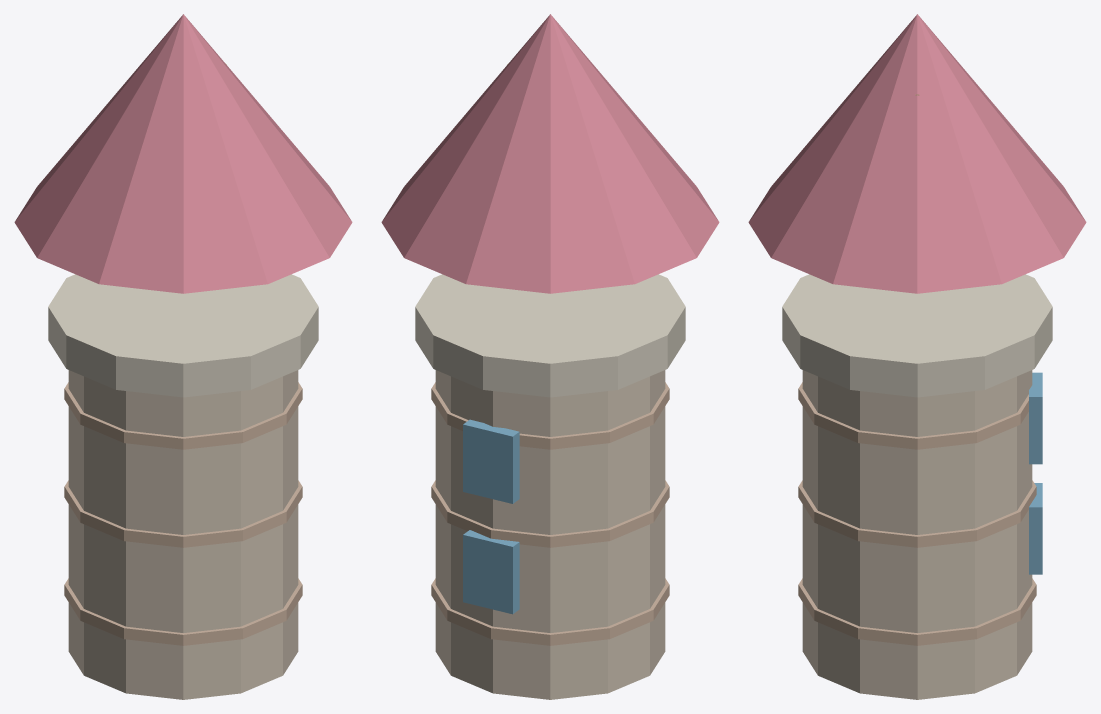
File: magic_tower.glb
3 views of the same model, side by side, from view 1: azimuth 30°, elevation 25°; view 2: azimuth 150°, elevation 25°; view 3: azimuth 270°, elevation 25° (orthographic).
Visible parts, largest first — view 1: magic_tower; view 2: magic_tower; view 3: magic_tower.
Part boxes in pixels (bbox=[...]): magic_tower: bbox=[14, 14, 352, 699]; magic_tower: bbox=[381, 14, 719, 699]; magic_tower: bbox=[748, 14, 1086, 699].
Size of the model in its own units: 5 by 10.4 by 5.
